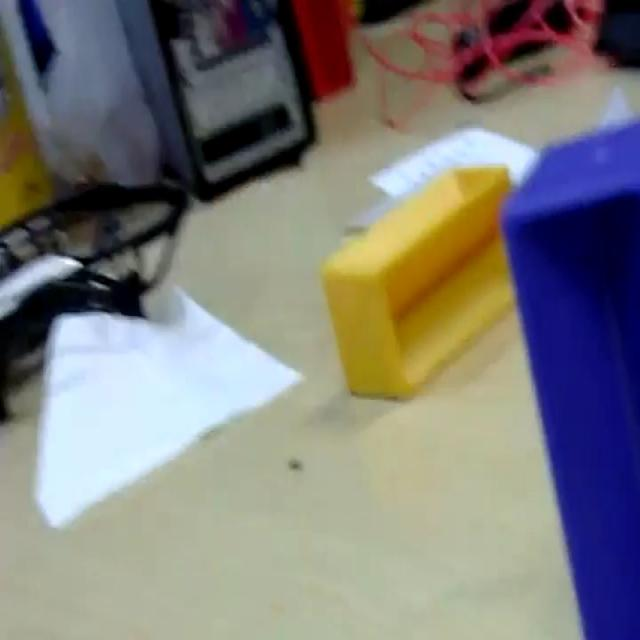blue_block: (499, 115, 638, 634)
yellow_block: (320, 160, 516, 399)
